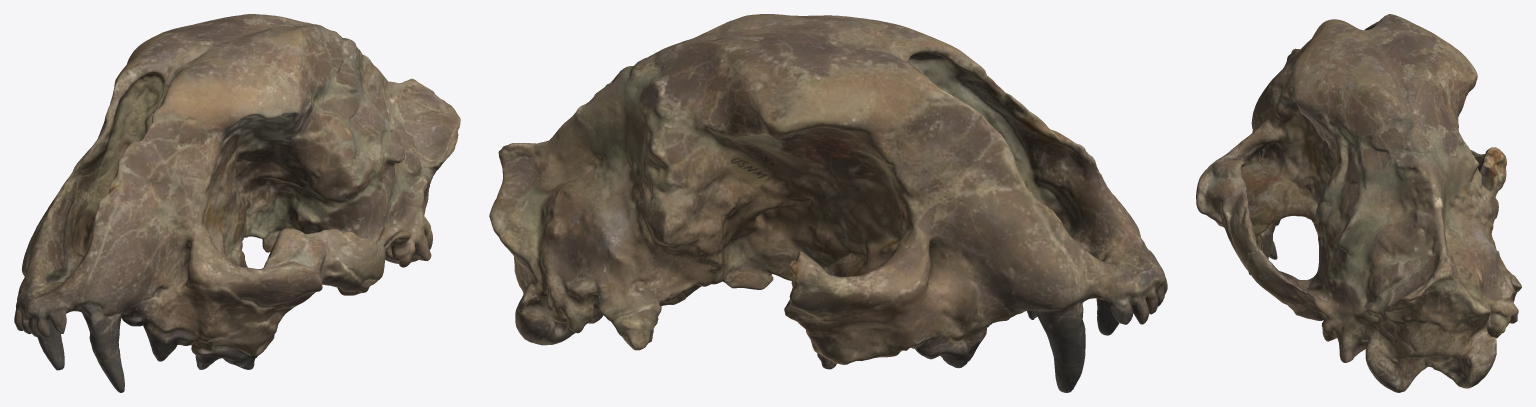
The picture shows the model from 3 angles, left to right: view 1: azimuth 30°, elevation 25°; view 2: azimuth 150°, elevation 25°; view 3: azimuth 270°, elevation 25°; orthographic projection. The views are drawn at different scales.
Parts seen in each view (by area): view 1: Dinictis_cyclops_-Cope-unwrapped-webmulti; view 2: Dinictis_cyclops_-Cope-unwrapped-webmulti; view 3: Dinictis_cyclops_-Cope-unwrapped-webmulti.
Part boxes in pixels (box(x1,y1,x2,y2)): Dinictis_cyclops_-Cope-unwrapped-webmulti: box(14, 14, 460, 392); Dinictis_cyclops_-Cope-unwrapped-webmulti: box(489, 14, 1167, 392); Dinictis_cyclops_-Cope-unwrapped-webmulti: box(1196, 14, 1521, 392).
Bounding box in the file's own units: 5772 × 3116 × 3556.
1 material, 1 textured.
